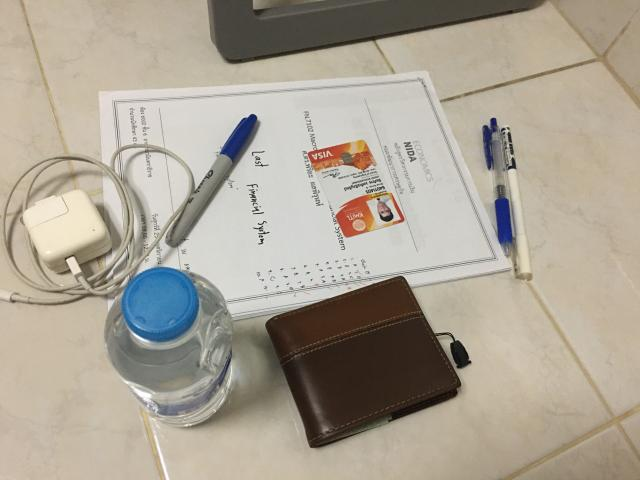Pen: (165, 114, 258, 246), (501, 126, 532, 280), (482, 118, 512, 256)
Wallet: (266, 276, 461, 448)
bottle: (105, 266, 232, 426)
paper: (97, 70, 513, 346)
wire: (0, 144, 195, 305)
